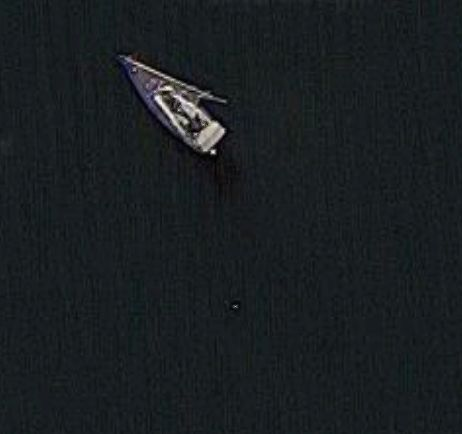boat: (114, 55, 231, 158)
